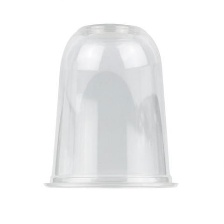glass: (33, 19, 186, 196)
